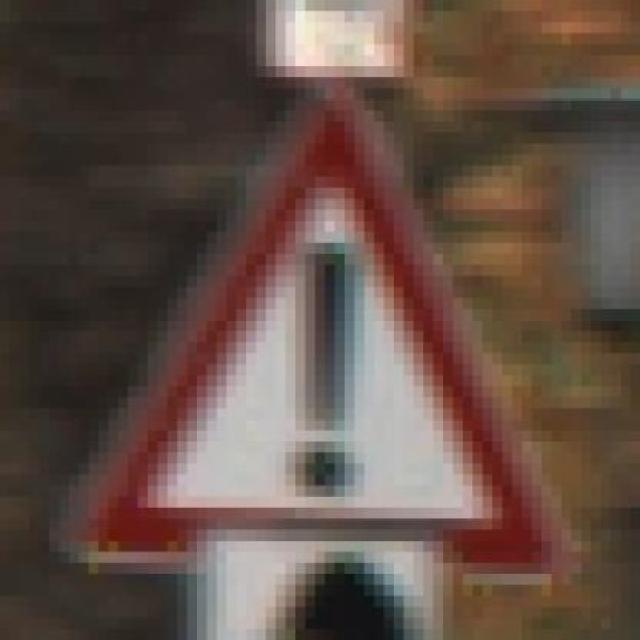Attention Please-: (49, 55, 582, 574)
